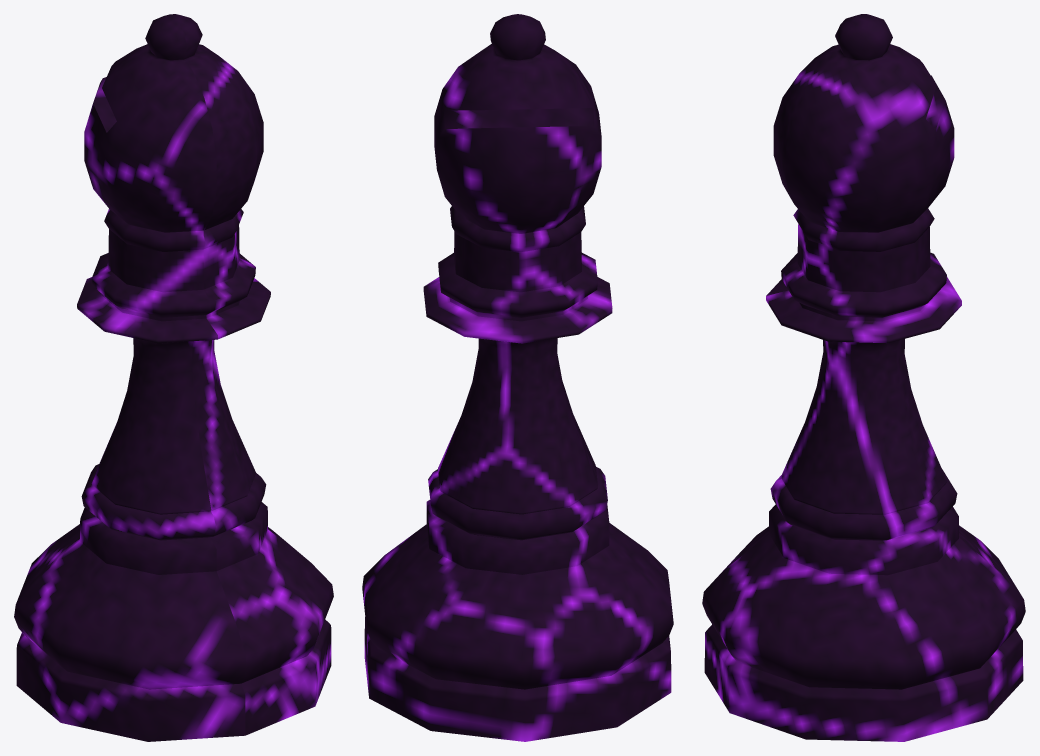
Rendered from item-2-9.glb.
3 views of the same model, side by side, from view 1: azimuth 30°, elevation 25°; view 2: azimuth 150°, elevation 25°; view 3: azimuth 270°, elevation 25° (orthographic).
Visible parts, largest first — view 1: BlackBishop; view 2: BlackBishop; view 3: BlackBishop.
Boxes of the visible parts, bbox=[...] form: BlackBishop: bbox=[14, 14, 333, 741]; BlackBishop: bbox=[362, 14, 673, 741]; BlackBishop: bbox=[702, 14, 1025, 741].
Size of the model in its own units: 0.0928 by 0.2155 by 0.0958.
1 material, 1 textured.
